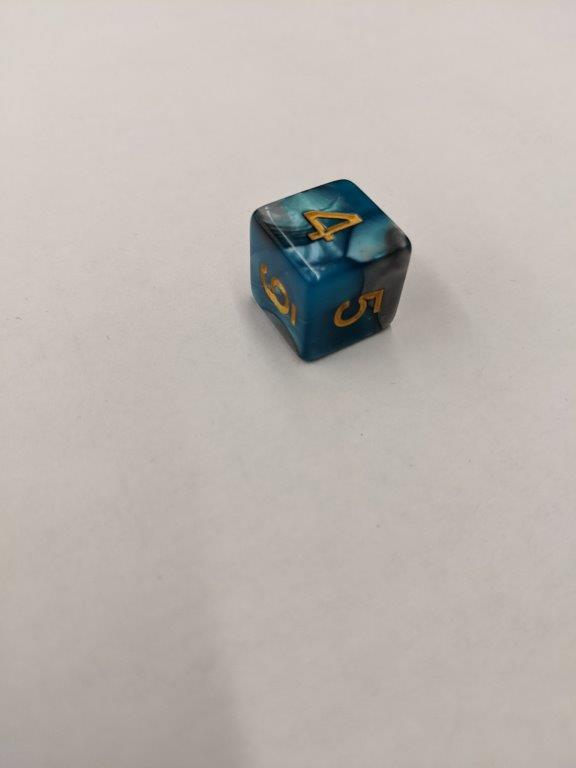d6-4: (249, 180, 411, 359)
